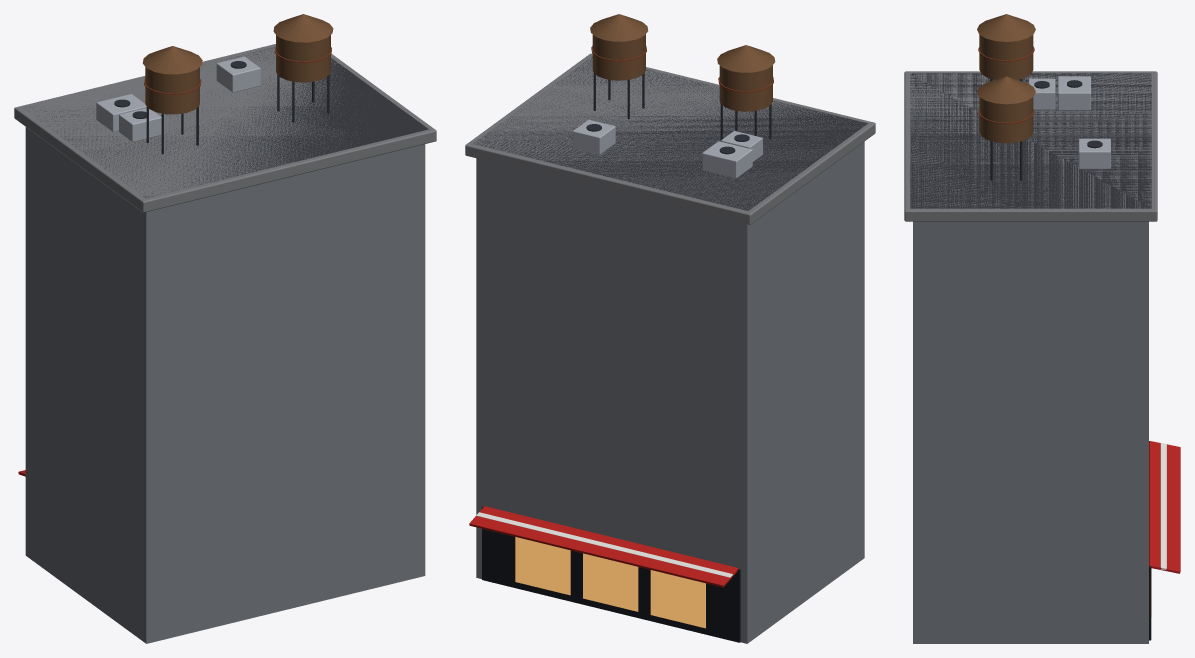
Rendered from building_c.glb.
3 renders of one model, left to right at view 1: azimuth 30°, elevation 25°; view 2: azimuth 150°, elevation 25°; view 3: azimuth 270°, elevation 25°, orthographic. The views are drawn at different scales.
Visible parts, largest first — view 1: BuildingC; view 2: BuildingC; view 3: BuildingC.
Part boxes in pixels (left/top/right/bottom): BuildingC: left=14, top=14, right=436, bottom=643; BuildingC: left=465, top=14, right=875, bottom=643; BuildingC: left=904, top=14, right=1180, bottom=643.
Size of the model in its own units: 13.5 by 23.9 by 11.23.
